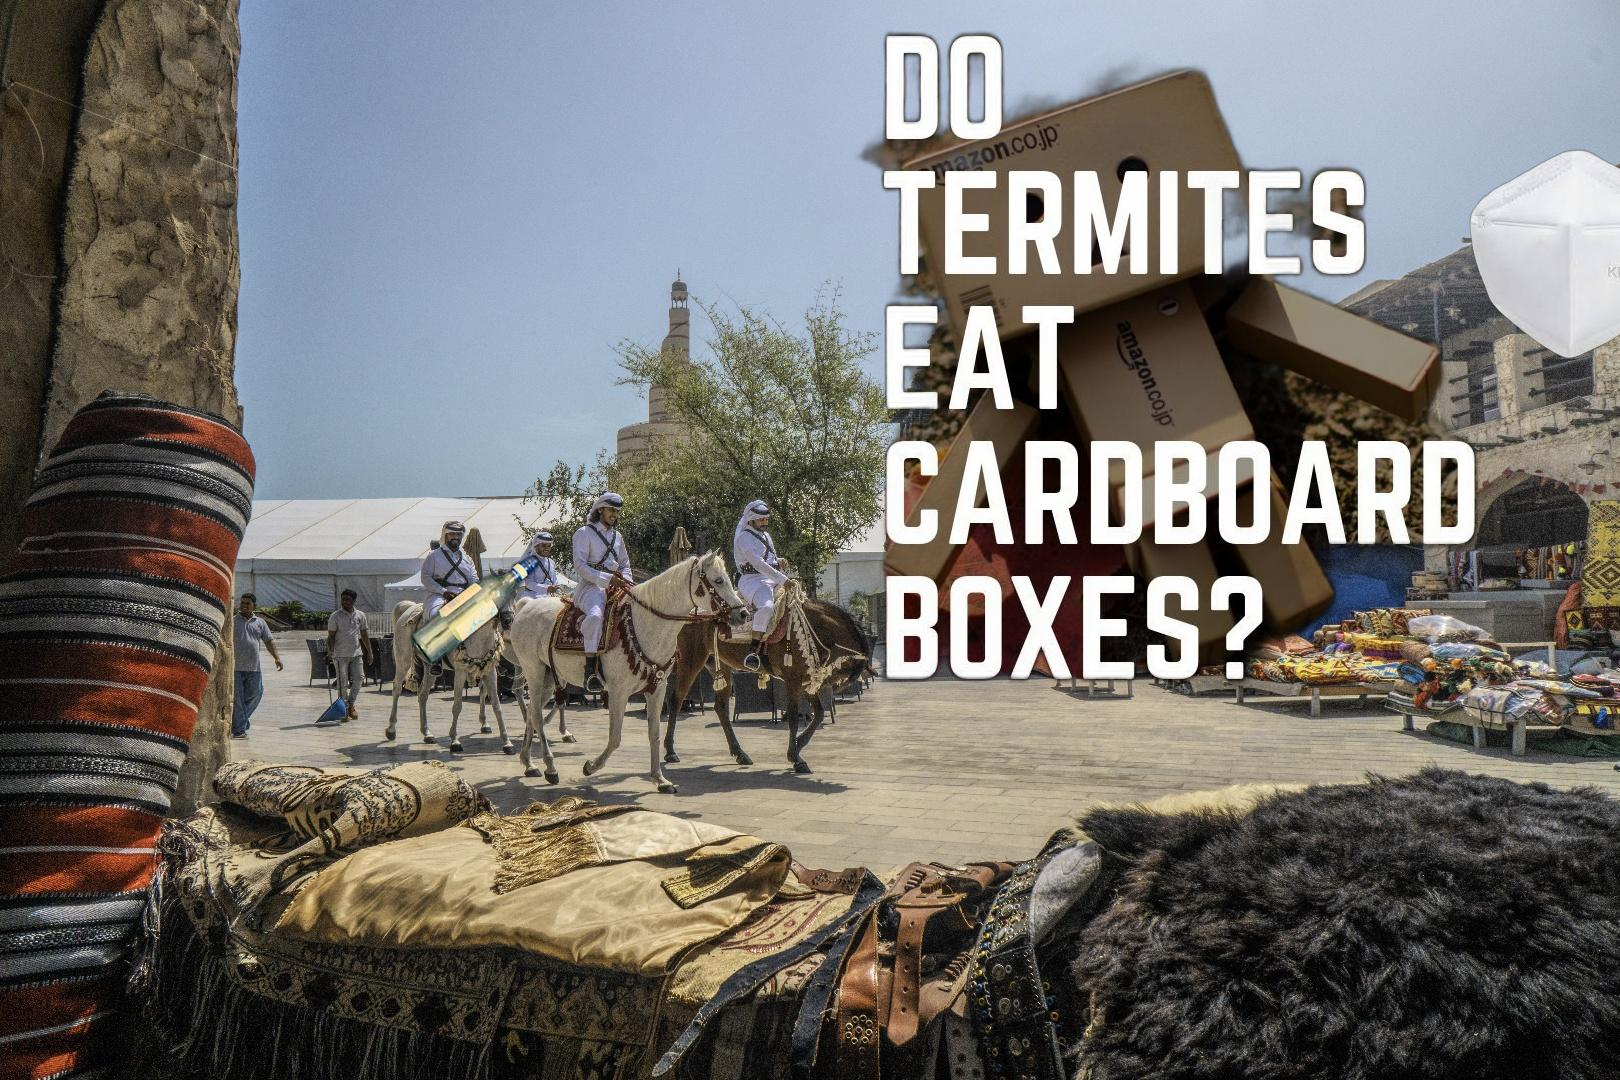glass: (405, 551, 542, 671)
trash: (1466, 148, 1620, 360)
trashbox-cardboard: (851, 23, 1483, 896)
